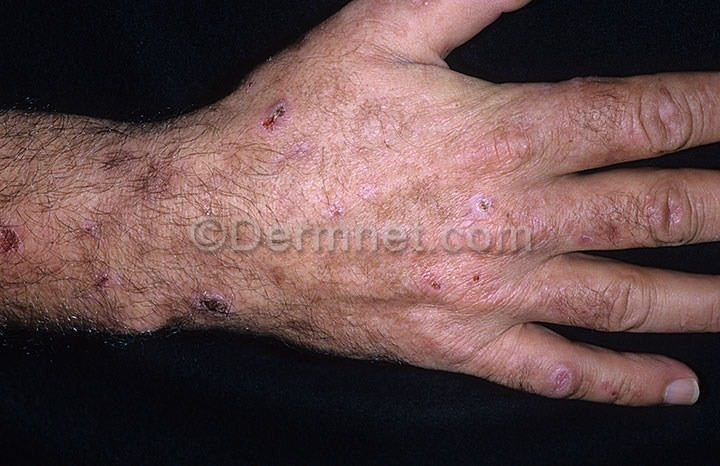Melasma: (0, 208, 159, 307), (223, 45, 343, 174), (56, 140, 206, 200), (179, 250, 254, 339), (536, 105, 645, 156), (526, 345, 615, 402), (408, 262, 524, 300), (573, 213, 650, 247)
